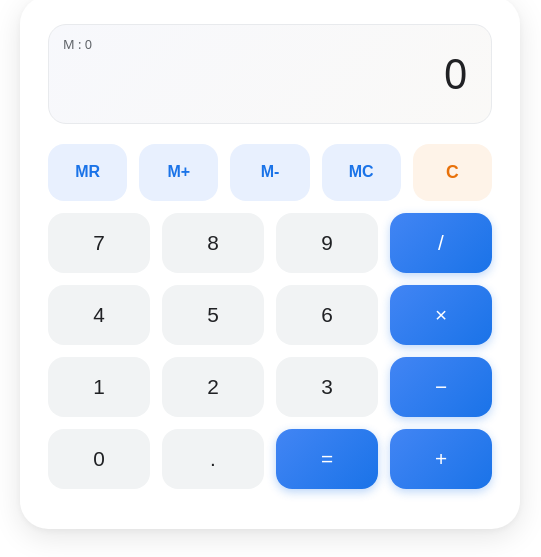
Test: Calculator › handles decimal point
Click the button "3". click: (327, 387)
box: [276,357,378,417]
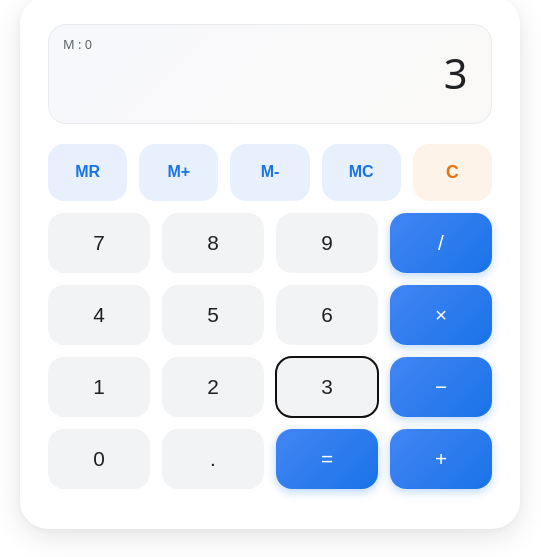
Click the button named "decimal point". click: (213, 459)
box: [162,429,264,489]
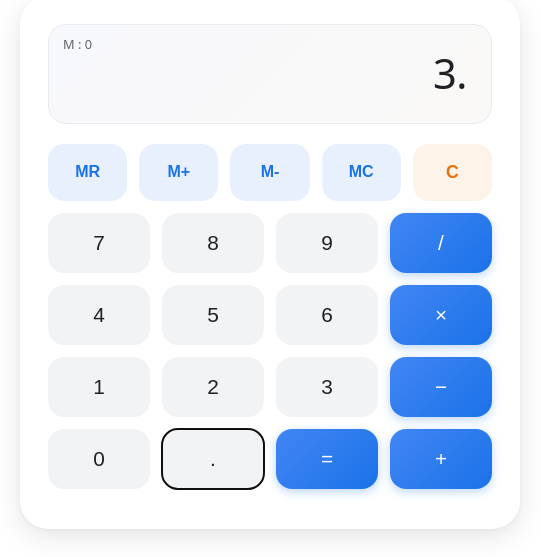
Click the button "5". click: (213, 315)
box: [162,285,264,345]
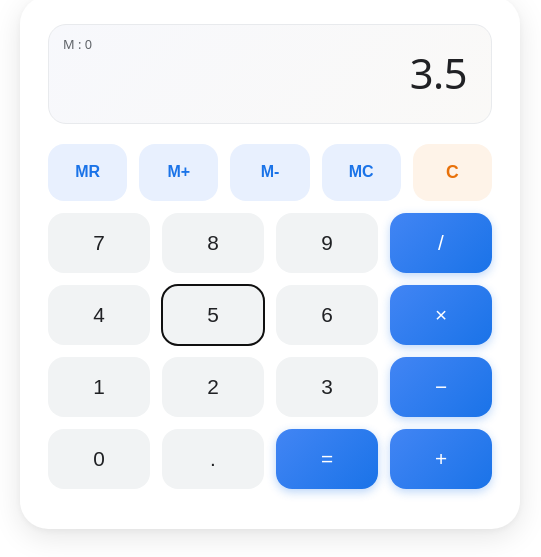
Check: the text "3.5" is shown, box [410,49,467,99]
